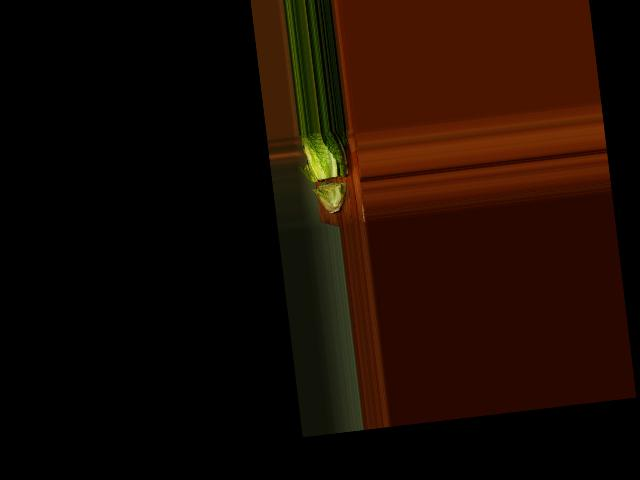lettuce: (298, 130, 358, 215)
